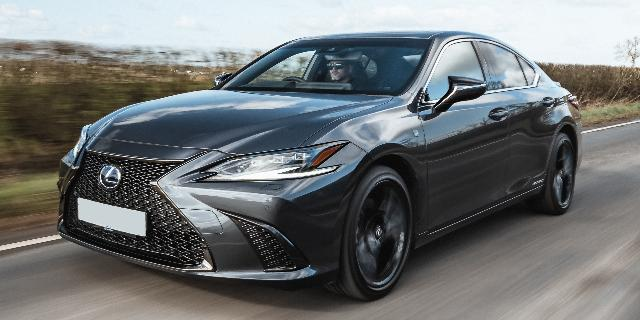lexus: (58, 30, 582, 300)
